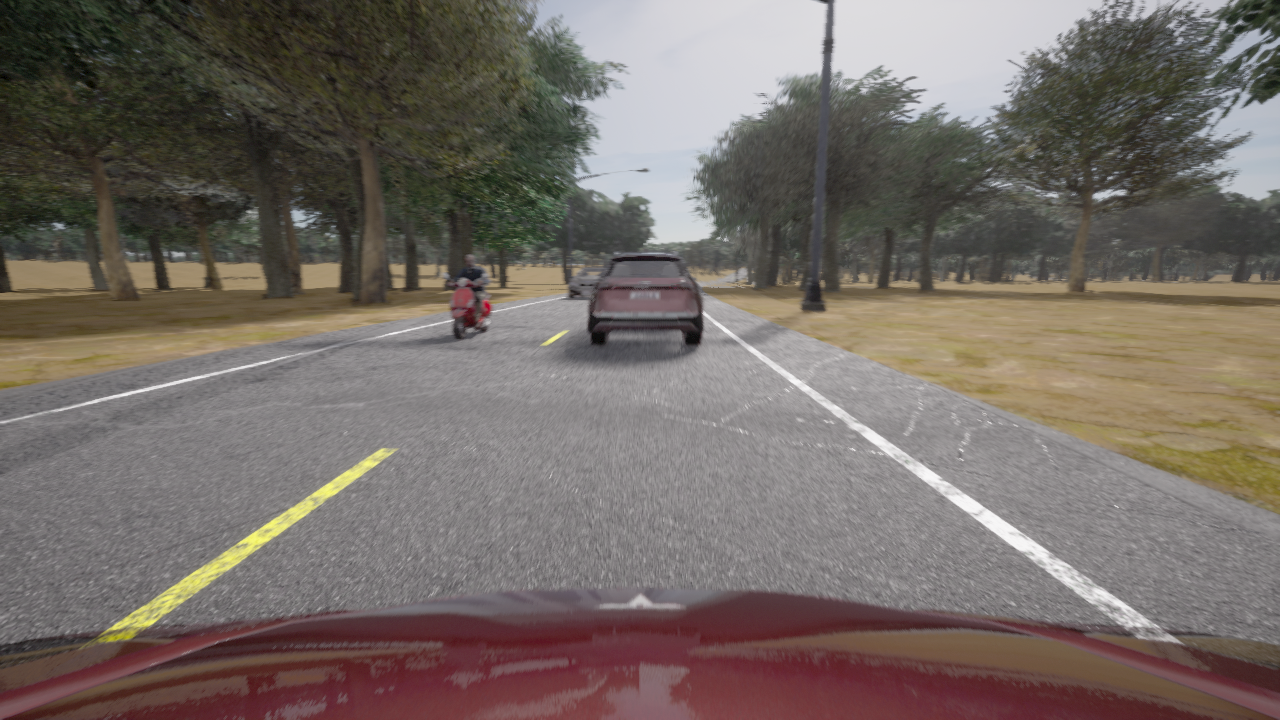cyclist: (0, 588, 1279, 719), (588, 249, 703, 345), (444, 273, 491, 339), (568, 268, 604, 298)
